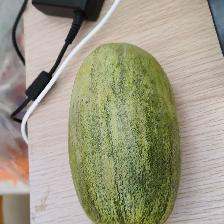gua: (84, 67, 147, 186)
